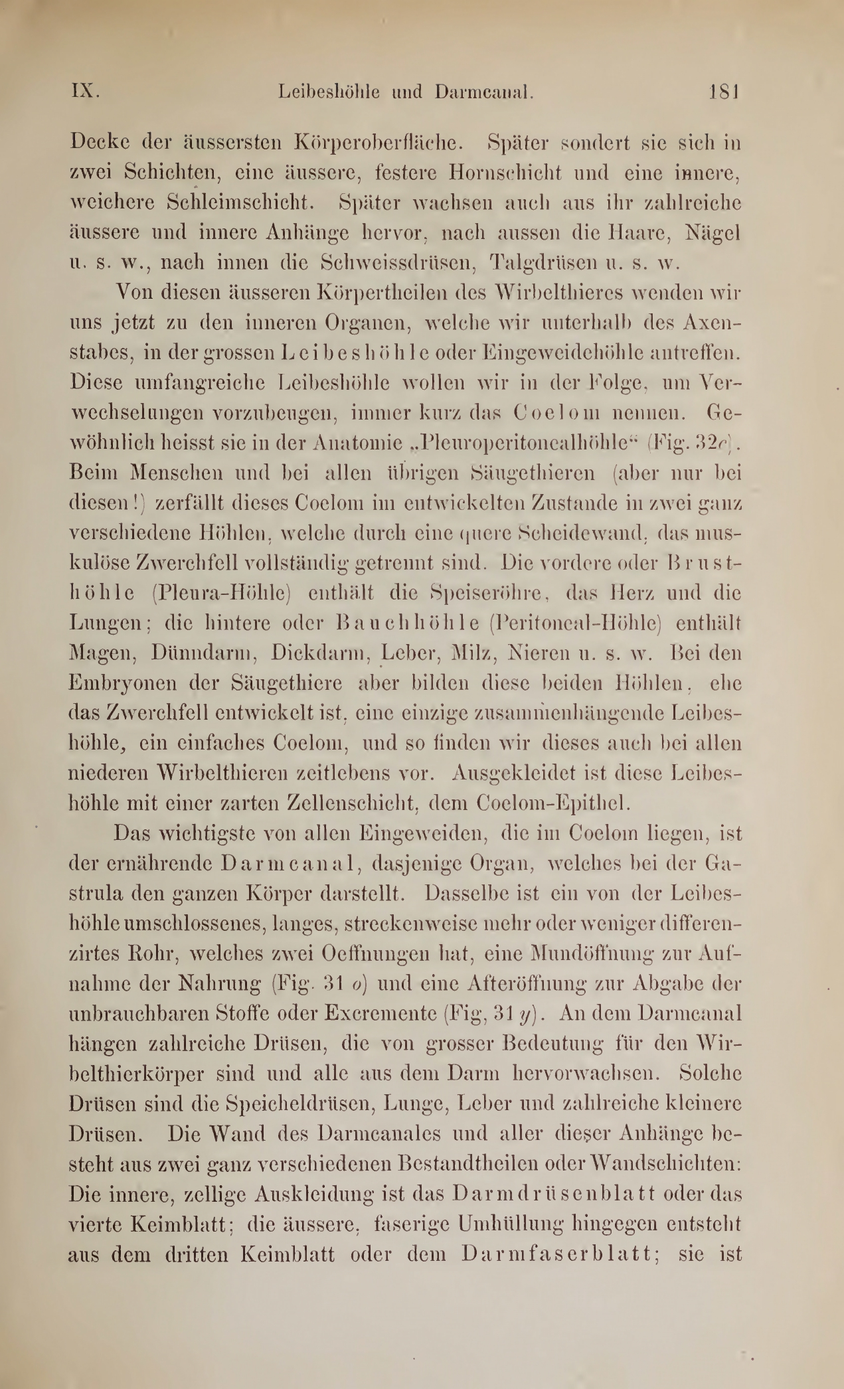MainZone: (50, 113, 781, 1294)
NumberingZone chapter: (56, 53, 106, 122)
NumberingZone_page: (707, 66, 757, 119)
RunningTitleZone: (266, 70, 547, 115)
